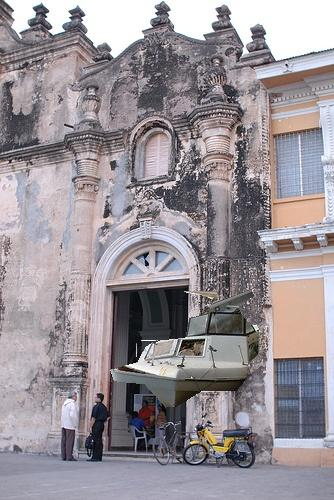tampered: (111, 290, 260, 407)
